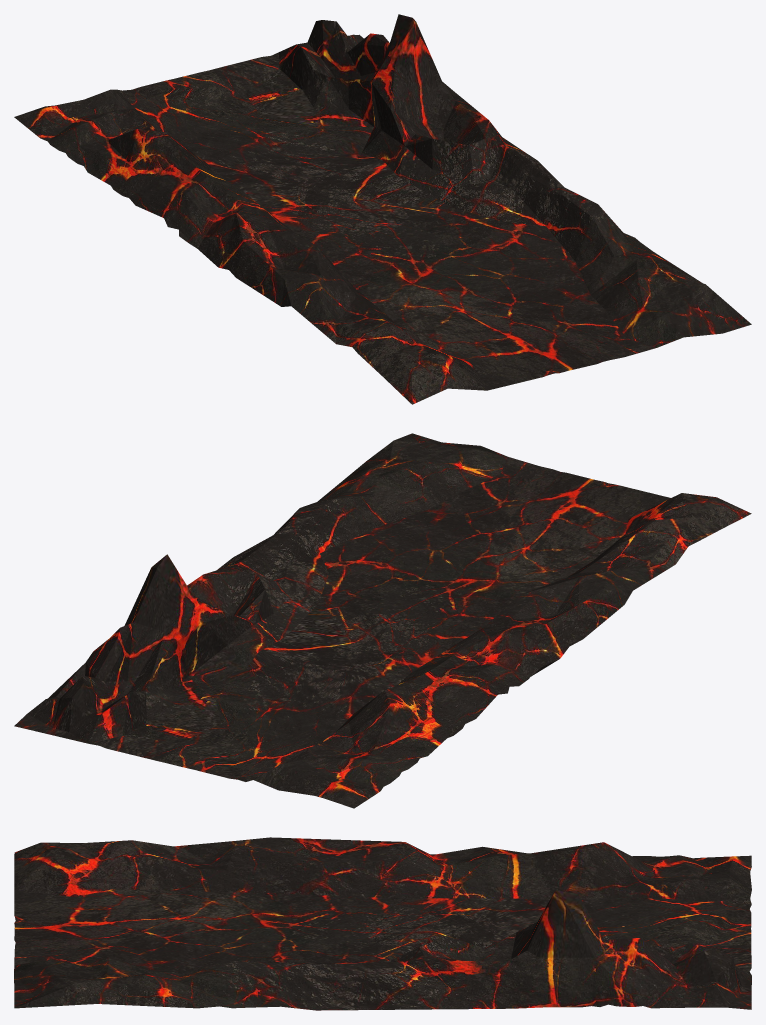
Rendered from HellTerrain1.fbx.
3 renders of one model, top to bottom at view 1: azimuth 30°, elevation 25°; view 2: azimuth 150°, elevation 25°; view 3: azimuth 270°, elevation 25°, orthographic. The views are drawn at different scales.
Parts seen in each view (by area): view 1: Plane; view 2: Plane; view 3: Plane.
Part boxes in pixels (left/top/right/bottom): Plane: left=14, top=14, right=751, bottom=404; Plane: left=14, top=433, right=751, bottom=808; Plane: left=14, top=837, right=751, bottom=1010.
Size of the model in its own units: 2002 by 609 by 4003.
